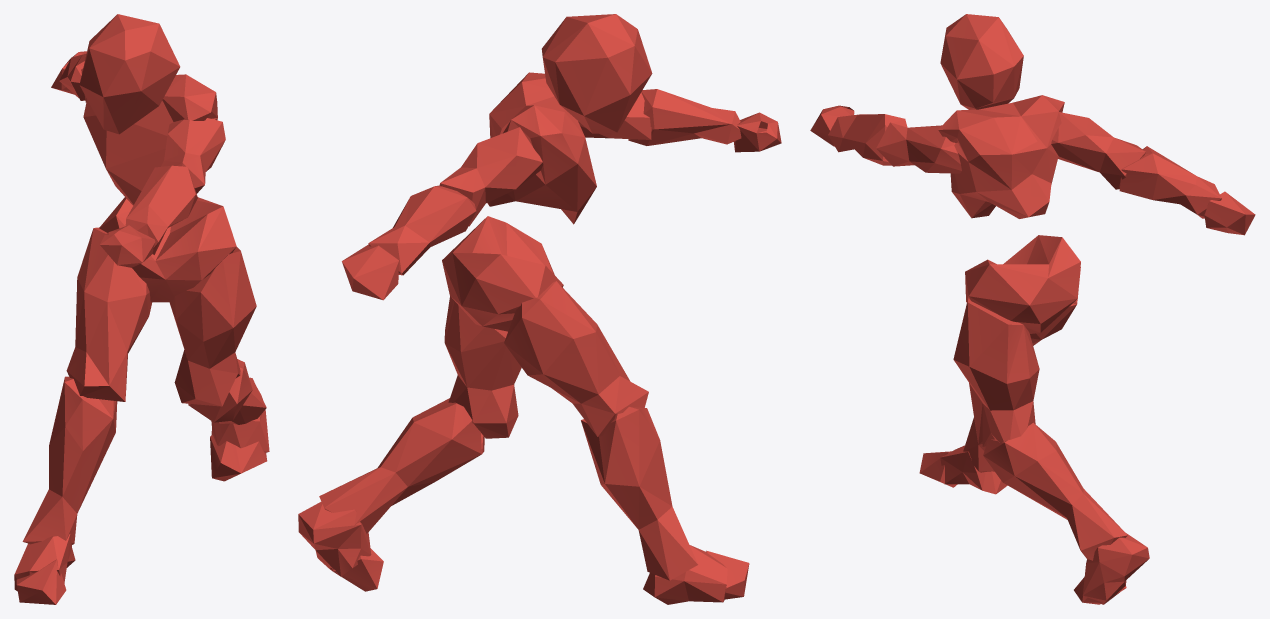
The model's file is 2dancer0184.obj.
3 views of the same model, side by side, from view 1: azimuth 30°, elevation 25°; view 2: azimuth 150°, elevation 25°; view 3: azimuth 270°, elevation 25° (orthographic). The views are drawn at different scales.
Parts seen in each view (by area): view 1: Beta_Surface; view 2: Beta_Surface; view 3: Beta_Surface.
Part boxes in pixels (x1,y1,x2,y2): Beta_Surface: [14, 14, 269, 604]; Beta_Surface: [298, 14, 781, 604]; Beta_Surface: [810, 14, 1255, 604].
Size of the model in its own units: 1.1 by 1.7 by 1.33.
